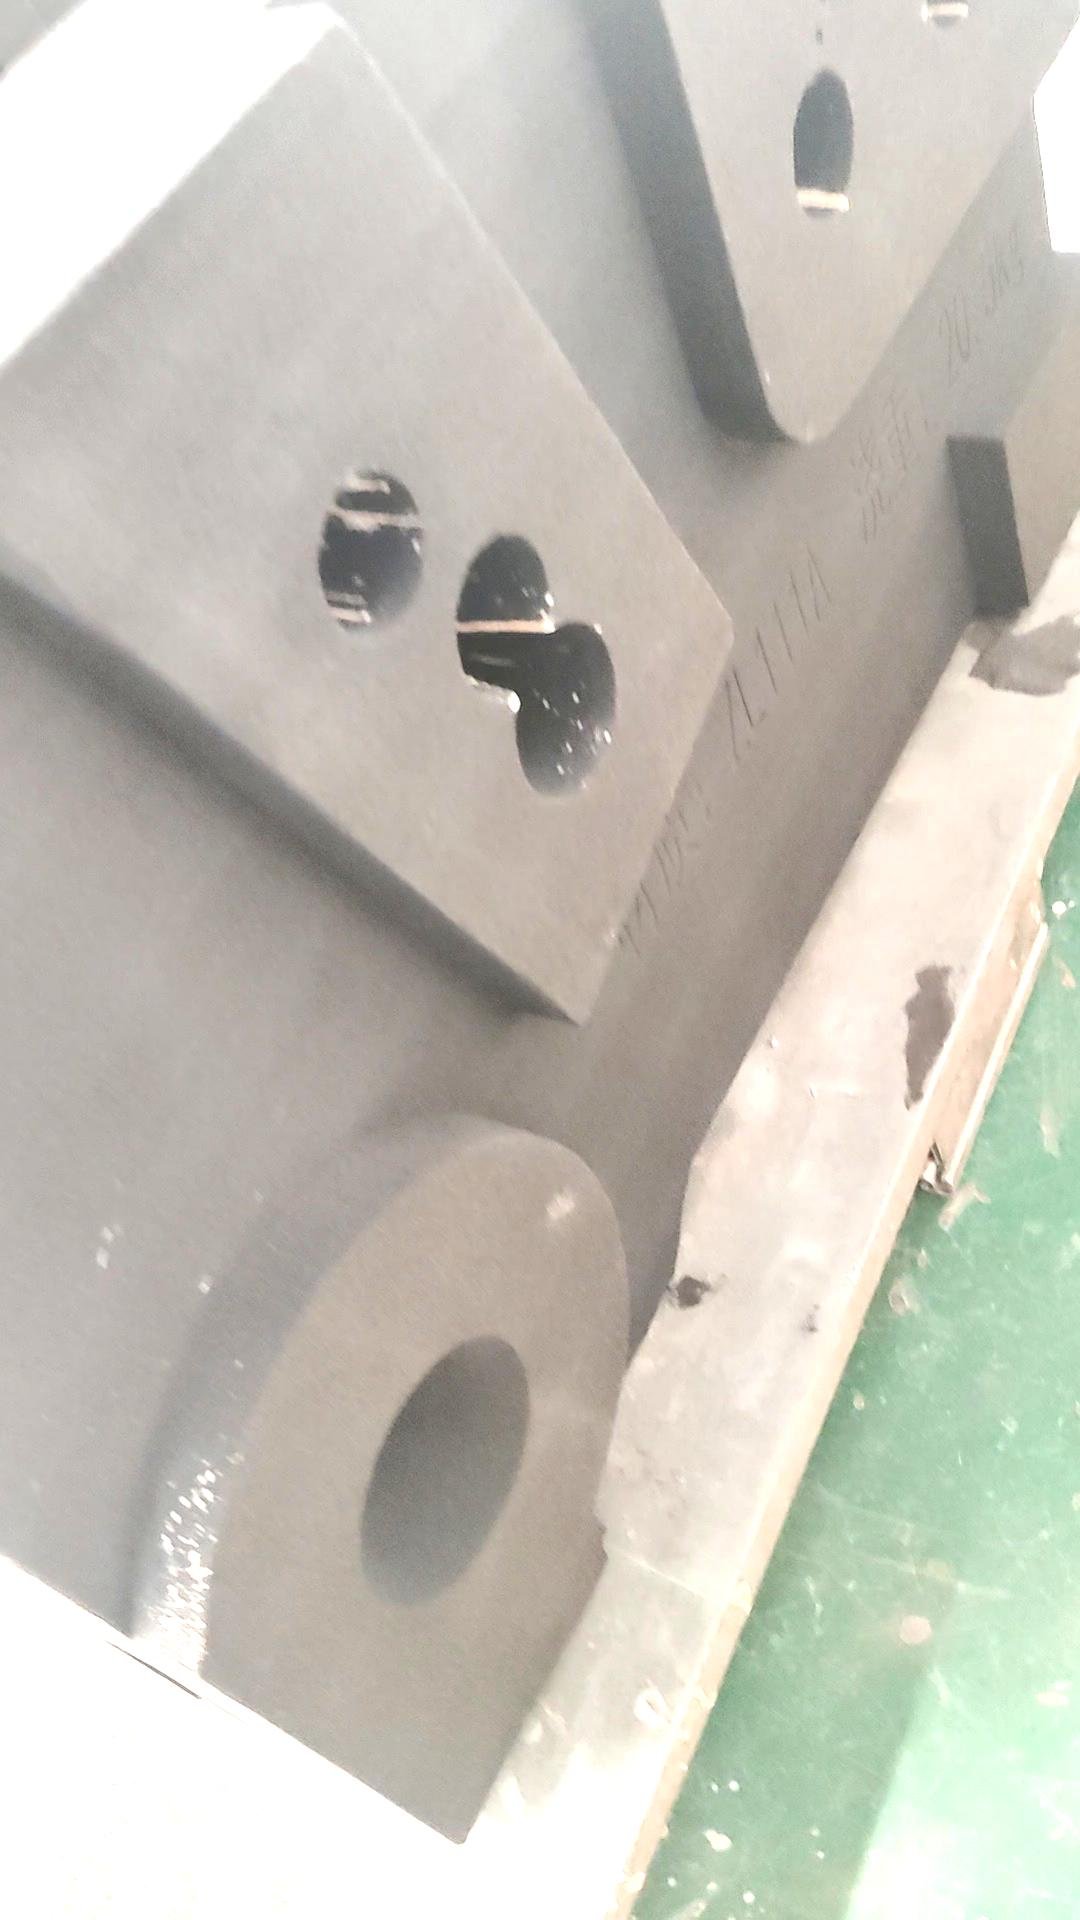pouring hole: (357, 1331, 535, 1607)
